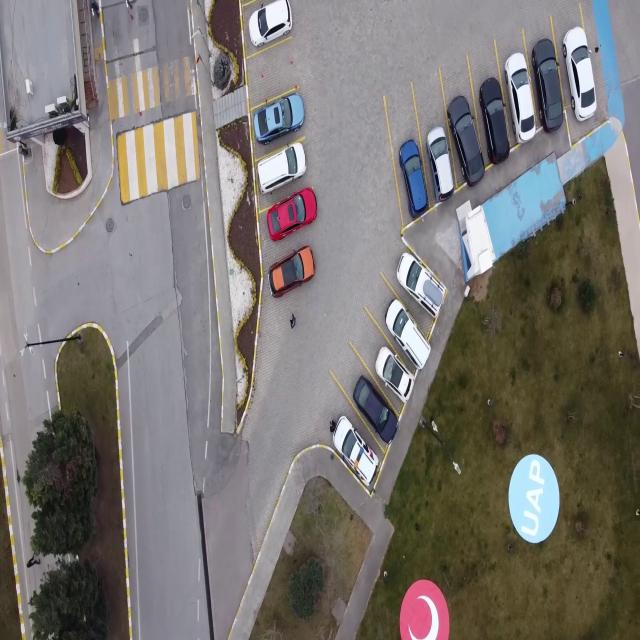people: (329, 420, 336, 432), (290, 314, 296, 328)
